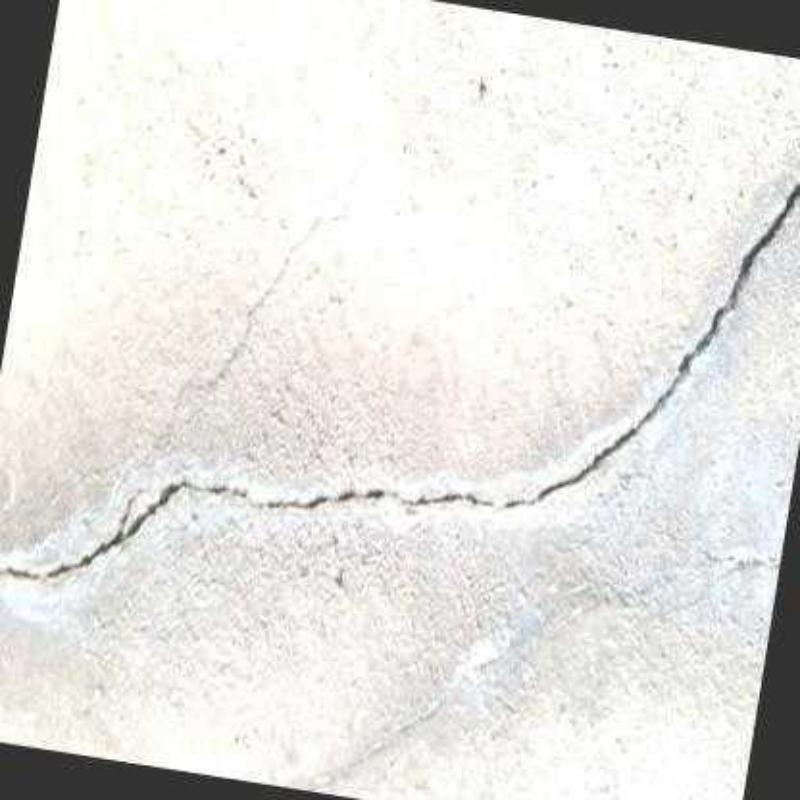crack: (0, 179, 800, 580)
